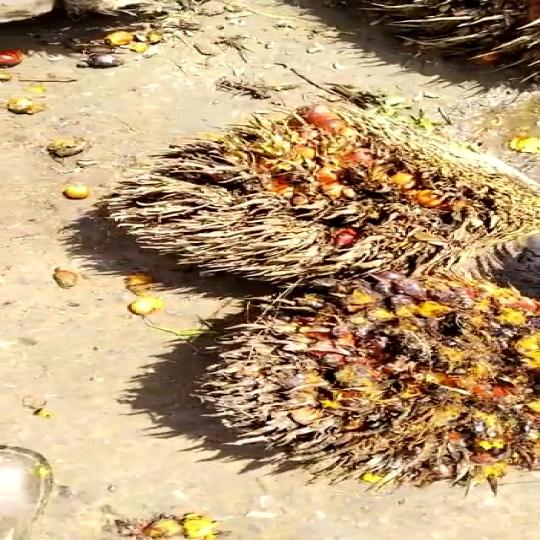terlalu masak: (100, 120, 537, 290), (188, 277, 537, 476)
